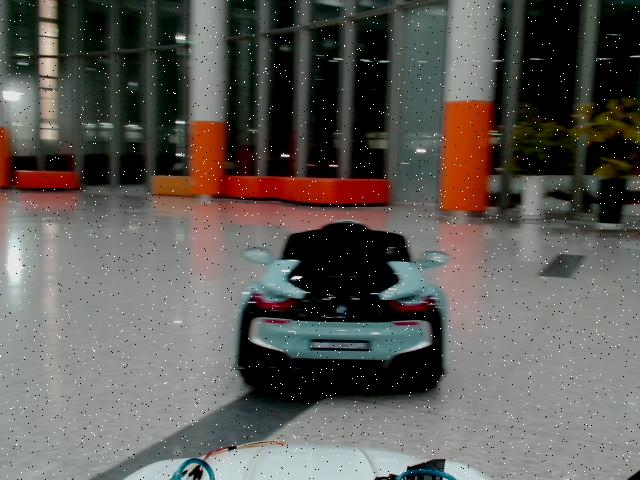car: (234, 220, 453, 392)
